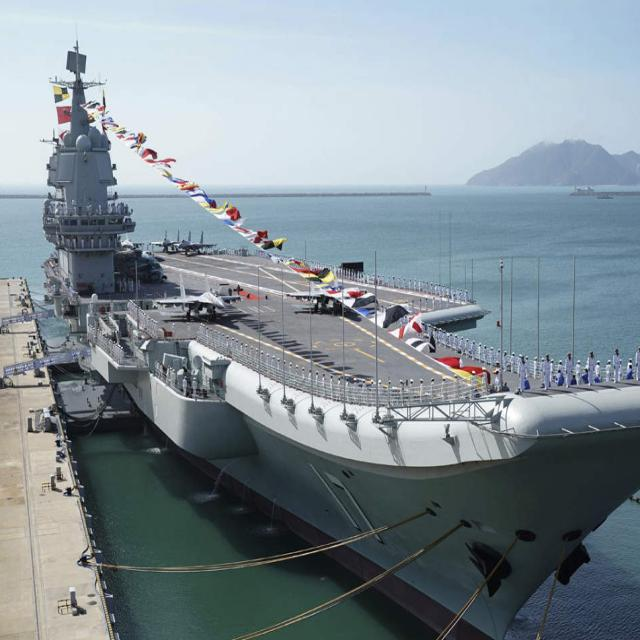Portanaves: (33, 25, 640, 640)
